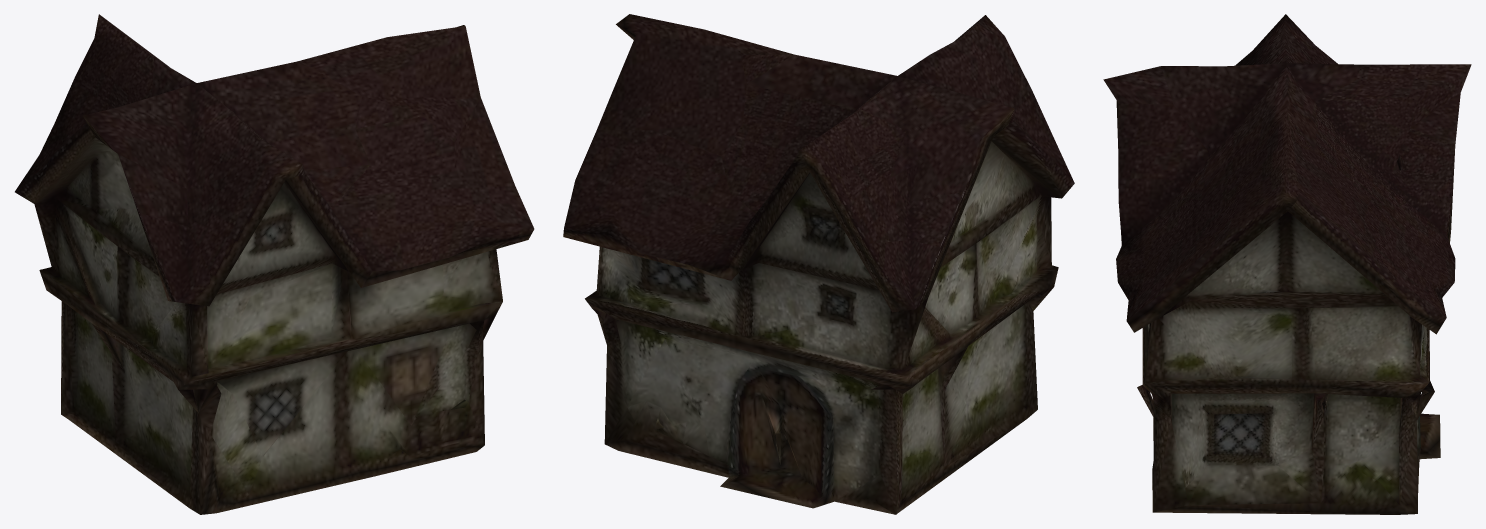
File: house1.glb
3 views of the same model, side by side, from view 1: azimuth 30°, elevation 25°; view 2: azimuth 150°, elevation 25°; view 3: azimuth 270°, elevation 25° (orthographic). The views are drawn at different scales.
Parts seen in each view (by area): view 1: tripo_node_51bd24ef; view 2: tripo_node_51bd24ef; view 3: tripo_node_51bd24ef.
Boxes of the visible parts, x1,y1,x2,y2 form: tripo_node_51bd24ef: (15,14,534,514); tripo_node_51bd24ef: (563,14,1074,514); tripo_node_51bd24ef: (1103,14,1471,514).
Bounding box in the file's own units: 9.3 × 8.48 × 8.05.
Materials: 1 (1 with a texture image).
